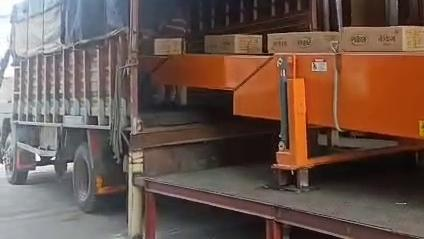box: (340, 26, 424, 51), (266, 32, 340, 53), (206, 35, 262, 52), (154, 37, 184, 54)
